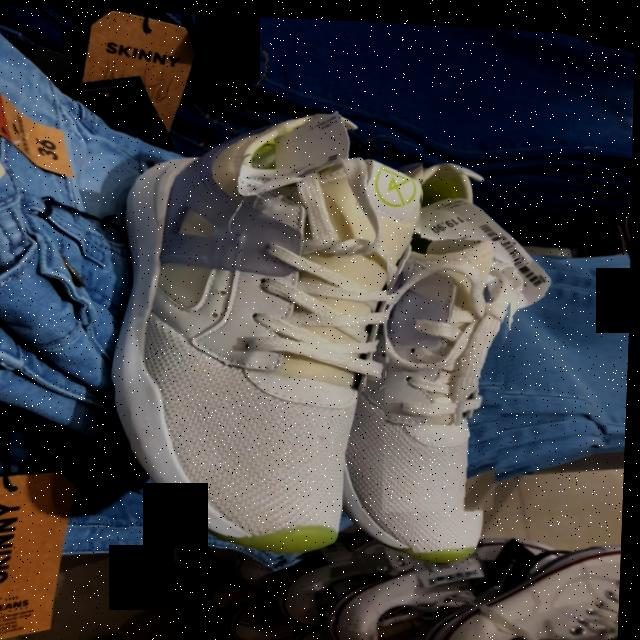shoe: (137, 109, 423, 556), (387, 234, 517, 507)
